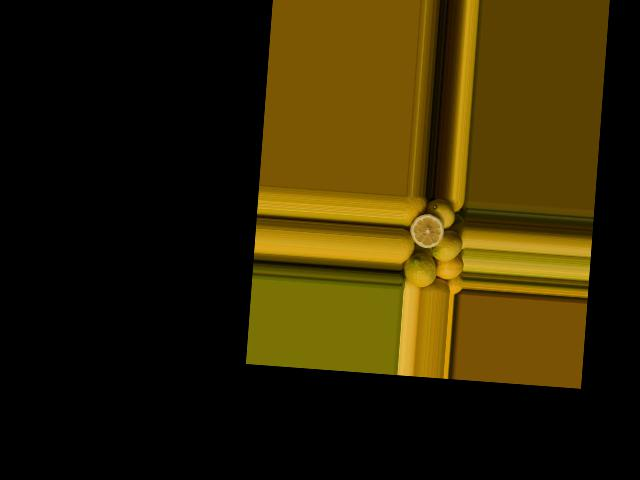lemon: (427, 199, 455, 226)
